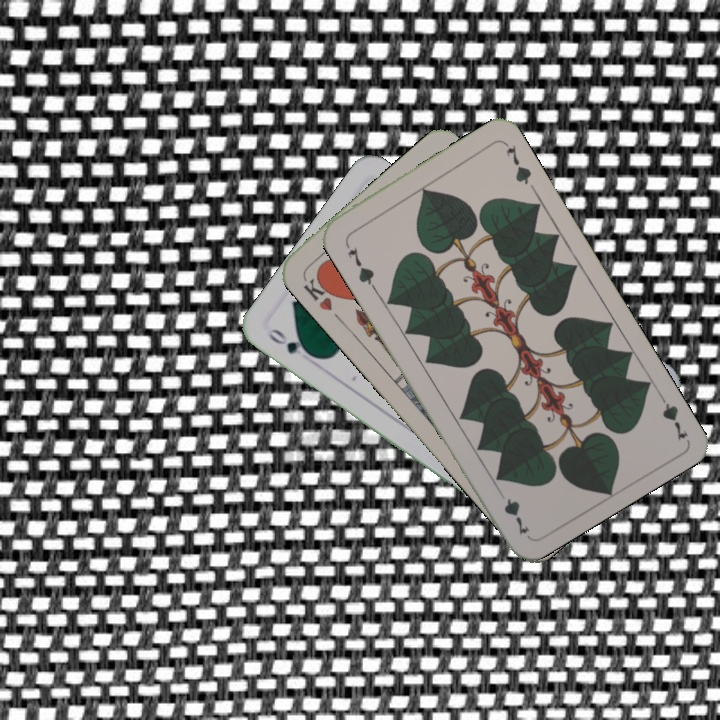G7: (653, 386, 691, 443), (344, 243, 378, 291)
GO: (264, 324, 317, 360)
HK: (299, 270, 340, 314)
